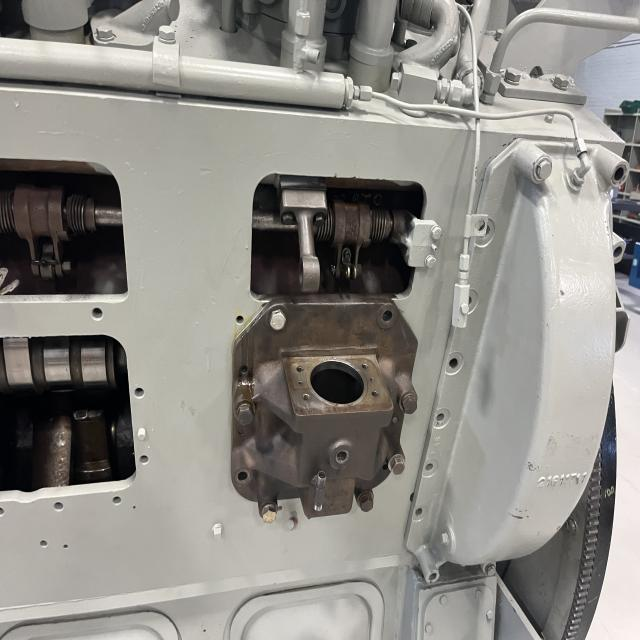Oil Leak: (233, 325, 255, 410)
